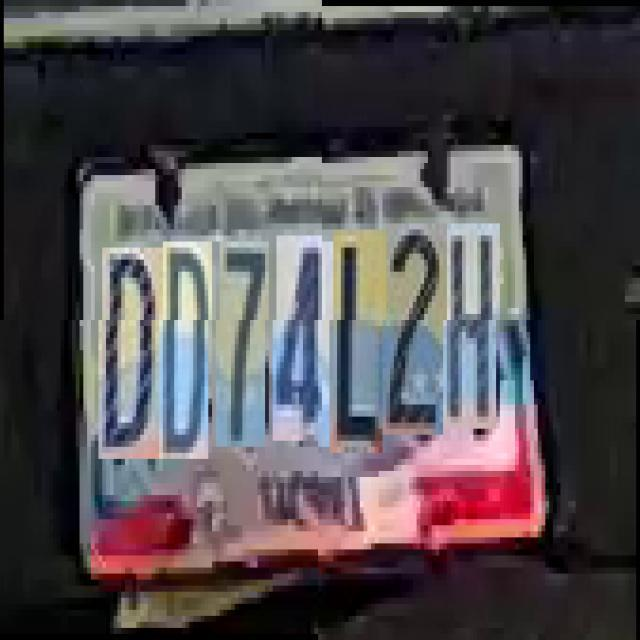2: (386, 223, 447, 434)
4: (276, 241, 334, 447)
7: (220, 247, 269, 453)
D: (102, 253, 163, 464), (163, 247, 212, 465)
H: (447, 224, 500, 428)
L: (334, 229, 386, 453)
